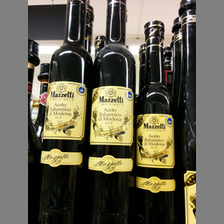vinegar: (39, 1, 88, 222), (89, 1, 136, 224), (139, 21, 180, 224)
